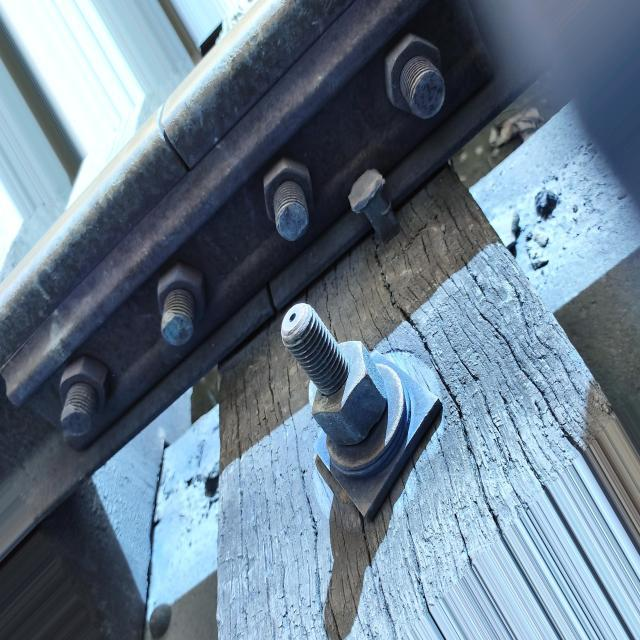Good Fasteners: (281, 304, 442, 519)
Good Joint: (0, 0, 491, 449)
